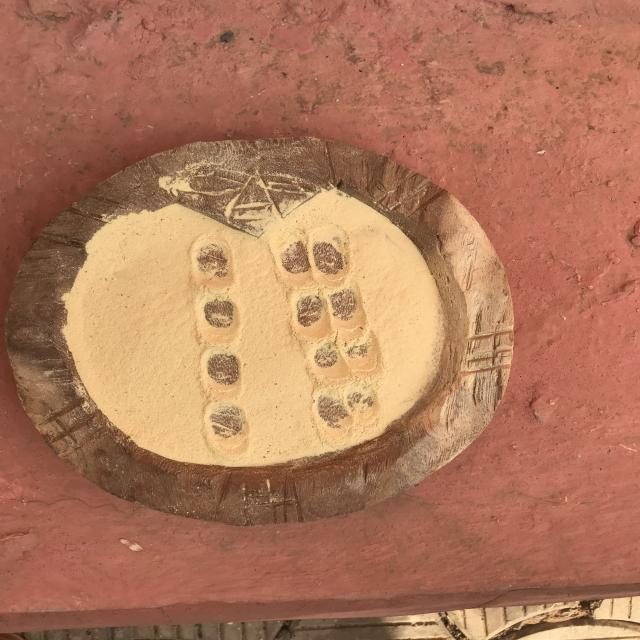double: (284, 280, 370, 336), (270, 228, 356, 283), (301, 332, 387, 380), (311, 380, 383, 434)
single: (202, 400, 254, 458), (190, 232, 237, 292), (199, 346, 248, 398), (194, 292, 242, 345)
